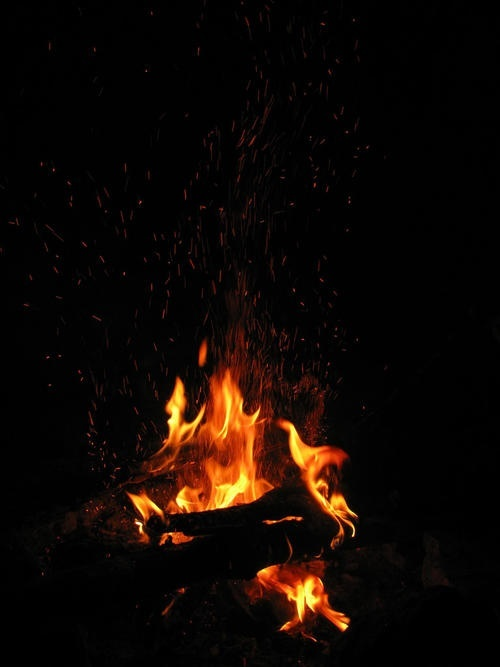fire: (120, 339, 367, 555)
